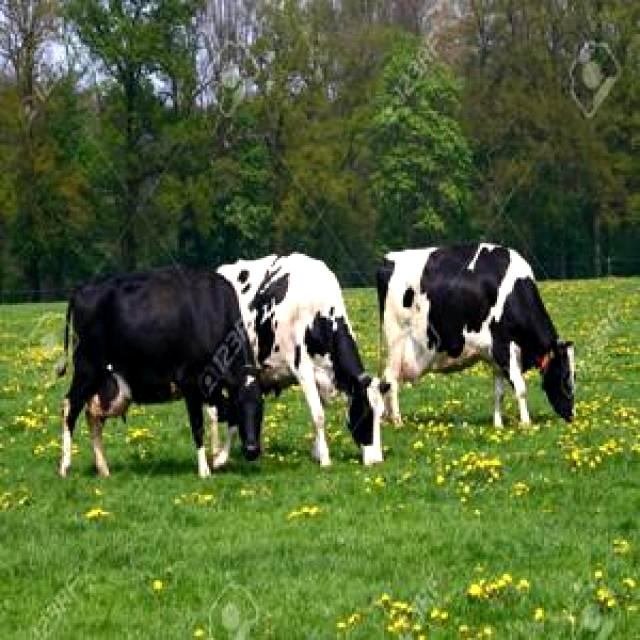COW: (60, 269, 261, 476), (378, 242, 575, 427), (218, 254, 382, 466)
